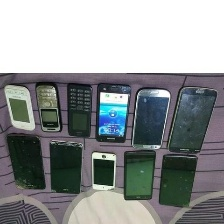phone: (164, 81, 220, 158), (129, 85, 171, 153), (1, 134, 47, 193), (156, 148, 199, 211), (92, 81, 131, 146), (47, 137, 87, 198), (118, 149, 160, 204), (1, 82, 40, 133), (31, 80, 65, 137), (64, 81, 95, 140), (87, 149, 118, 193)
